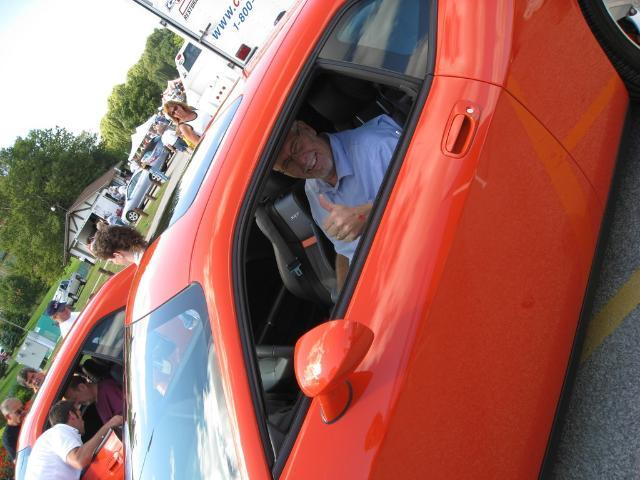Seatbelt: (256, 203, 330, 315), (101, 366, 122, 390)
